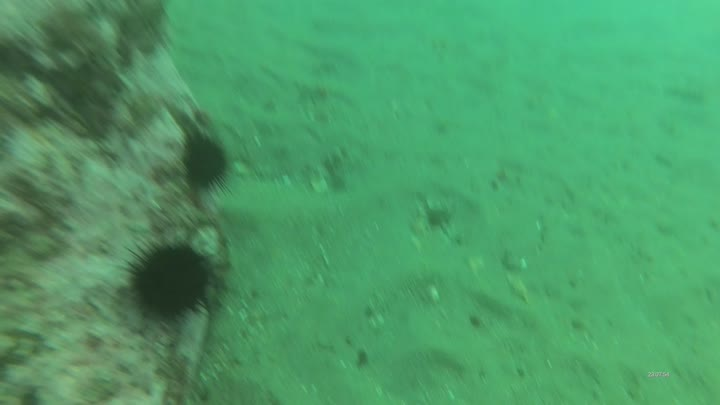echinus: (122, 237, 221, 328), (175, 122, 241, 199)
